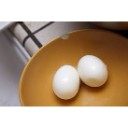begg: (54, 66, 80, 99), (82, 56, 109, 86)
